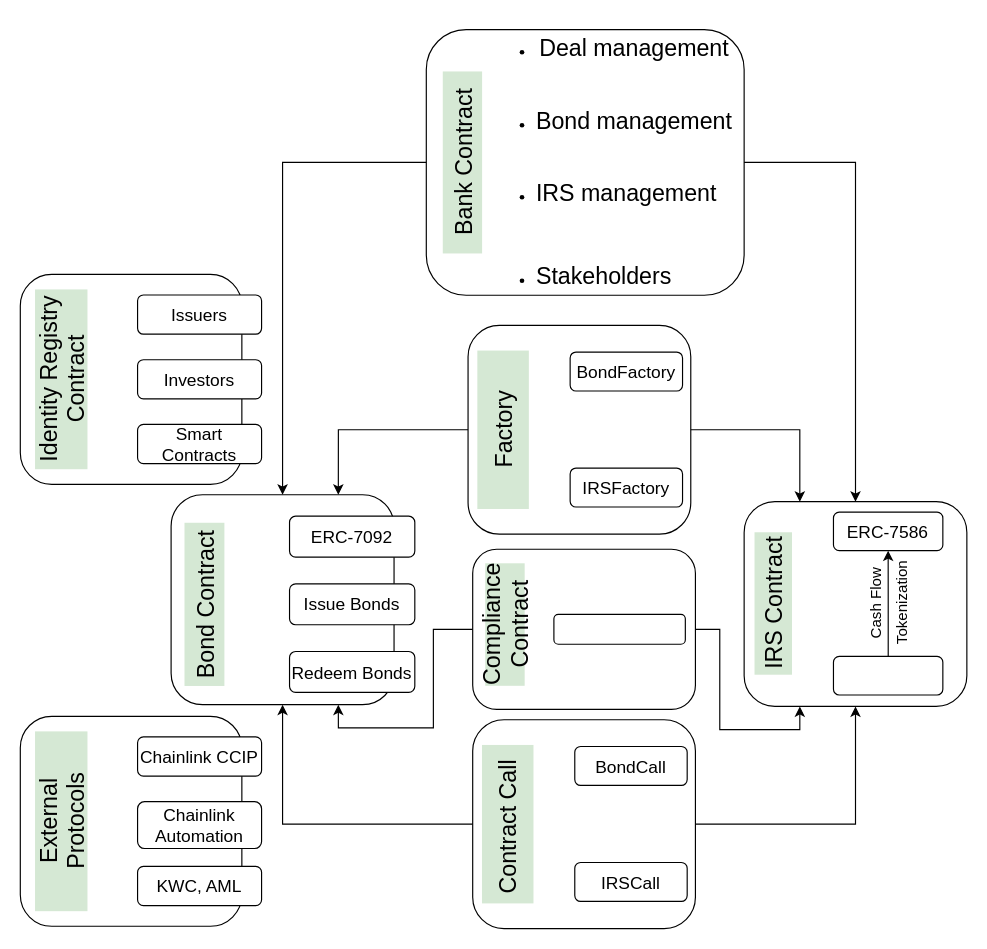
Image size: 987x949. Some labels were removed from this diagram. Each missing label, with the centre of its shape:
ERC-20: (x=887, y=675)
Transfer Checks: (x=619, y=628)
